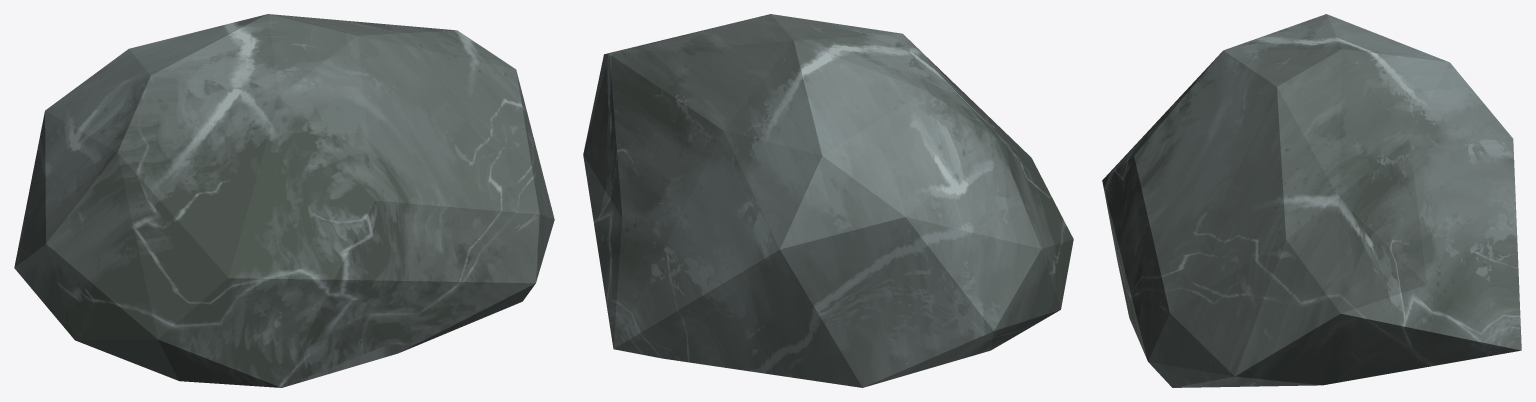
Rendered from glaz_5.obj.
3 renders of one model, left to right at view 1: azimuth 30°, elevation 25°; view 2: azimuth 150°, elevation 25°; view 3: azimuth 270°, elevation 25°, orthographic. The views are drawn at different scales.
Parts seen in each view (by area): view 1: rock.009; view 2: rock.009; view 3: rock.009.
Part boxes in pixels (x1,y1,x2,y2): rock.009: (14,14,554,387); rock.009: (583,14,1073,387); rock.009: (1102,14,1521,387).
Bounding box in the file's own units: 17.42 × 9.43 × 13.85.
1 material, 1 textured.
